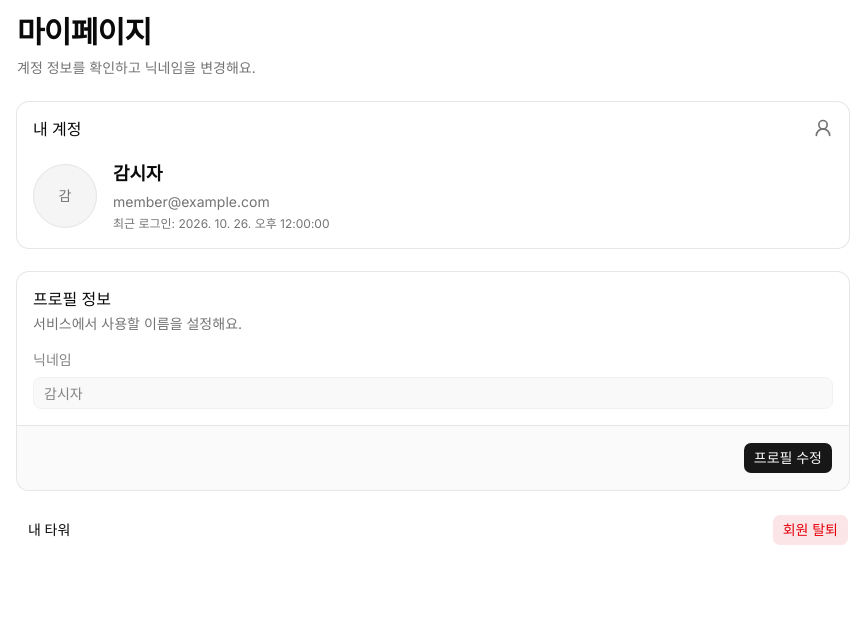
Test case: 닉네임을 수정하면 제공받은 프로필 사진을 유지하고 다시 조회할 것이다
Click the button "프로필 수정". click: (788, 458)
box: [743,442,833,474]
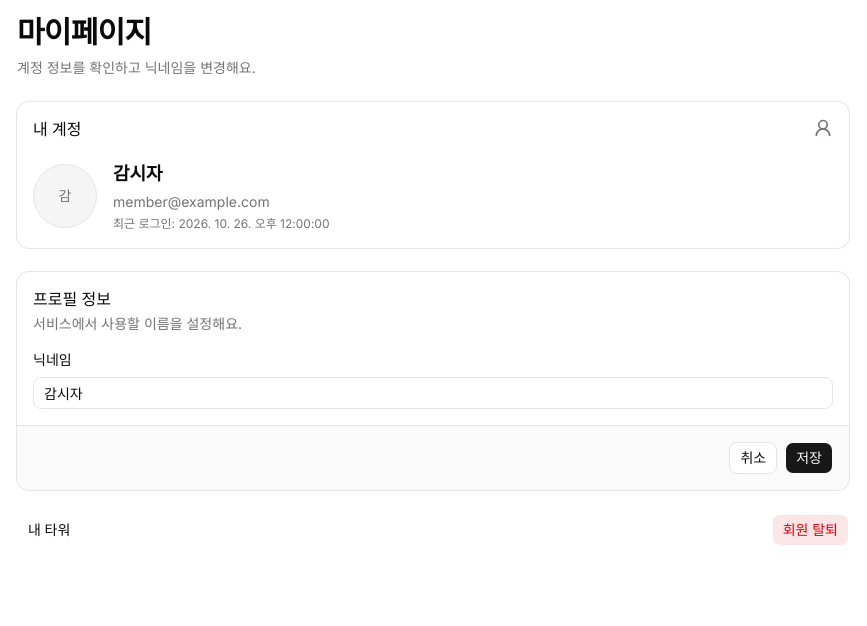
Replace the text in the field labelled "닉네임" with "새 감시자". click: (433, 393)
box: [33,377,833,409]
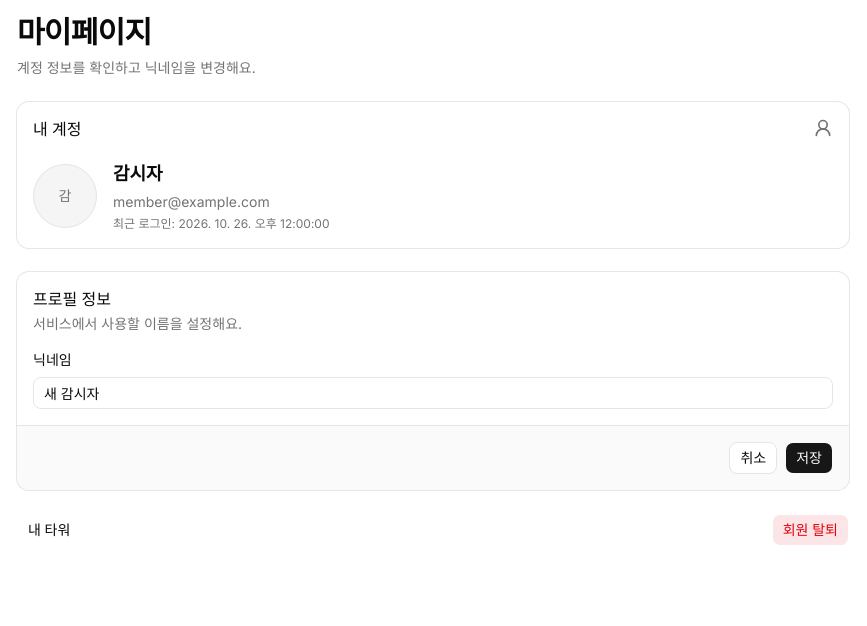
Click the button "저장". click: (809, 458)
box: [785,442,833,474]
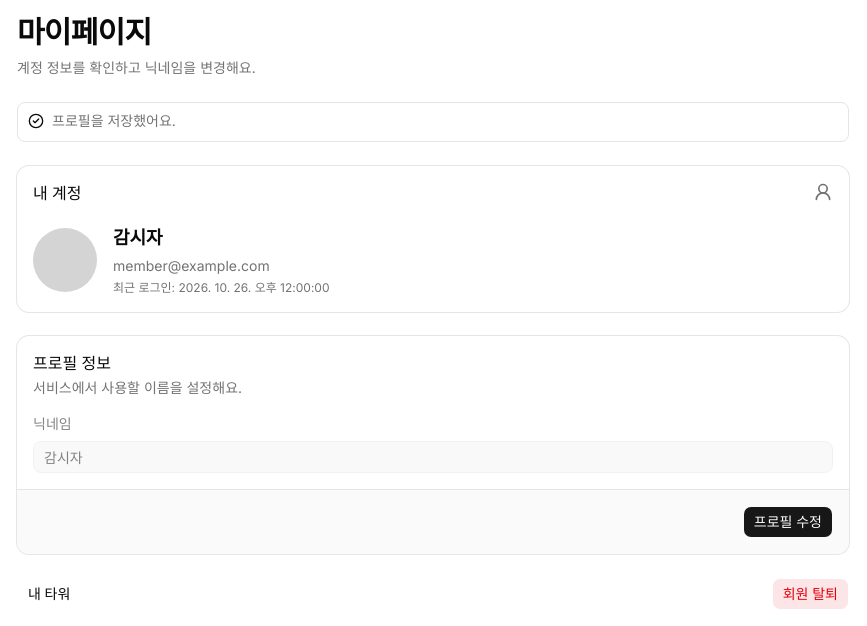
Now the text "프로필을 저장했어요." is shown, box [52,112,176,129]
